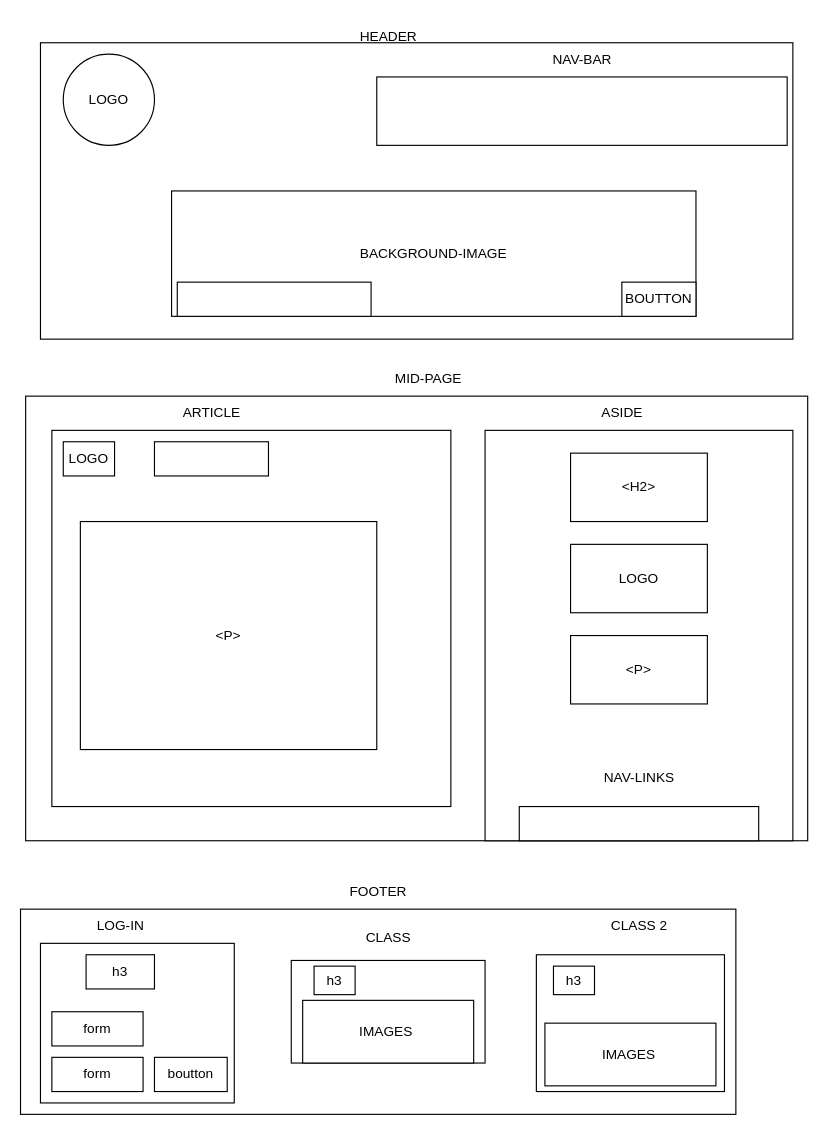
Image size: 828x1134. Some labels were removed from this diagram. The centre of each missing label's shape, as x and y in pixels:
"<H1>" belongs at pixel 210 458.
"LIEN + IMAGES" belongs at pixel 638 823.
"TEXT" belongs at pixel 273 298.
"UL+ LI" belongs at pixel 581 110.
